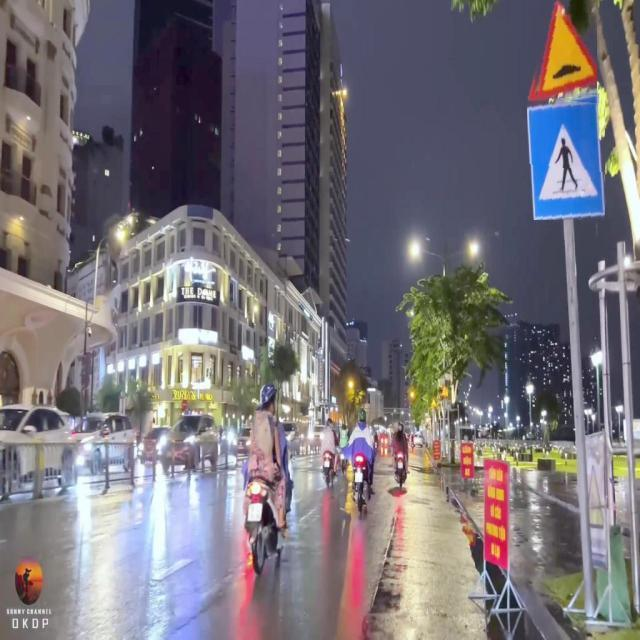221-duong-go-ghe: (541, 5, 601, 96)
224-duong-nguoi-di-bo-cat-ngang: (526, 93, 608, 223)
